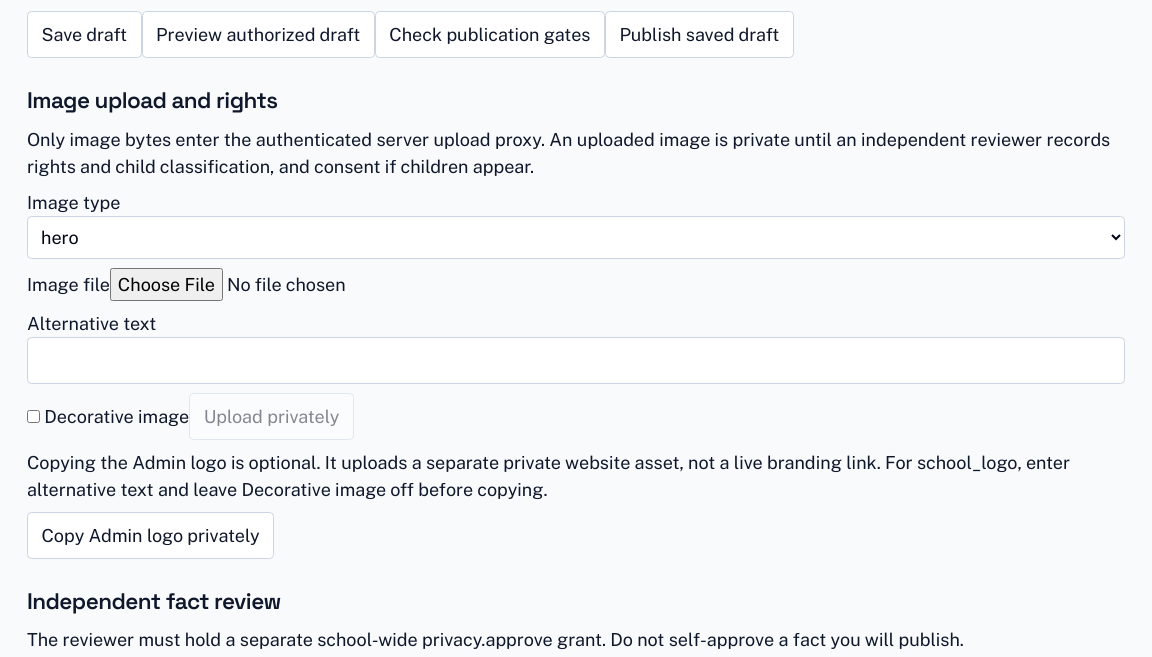
copies only an explicitly requested same-school logo through the authenticated website byte upload
(page scrolled)
Step 1. Type "School crest" into the field labelled "Alternative text" → (576, 360), box top-left (27, 336), bottom-right (1125, 384)
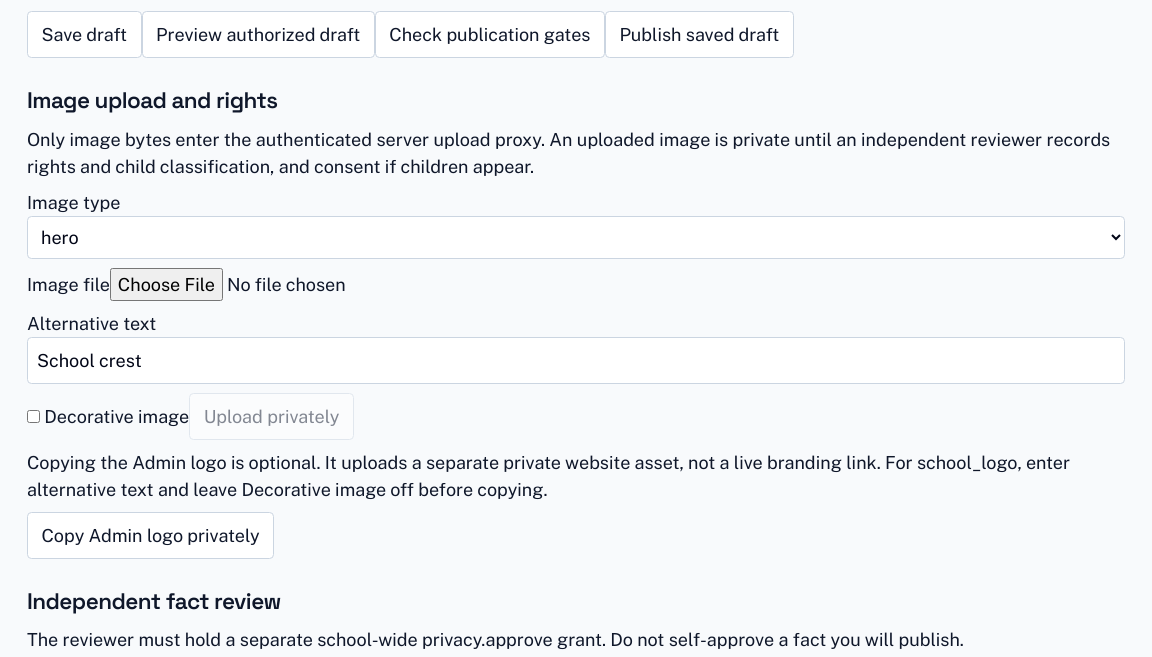
Step 2. Click the button "Copy Admin logo privately" → (151, 535), box top-left (27, 512), bottom-right (274, 558)
(page scrolled)
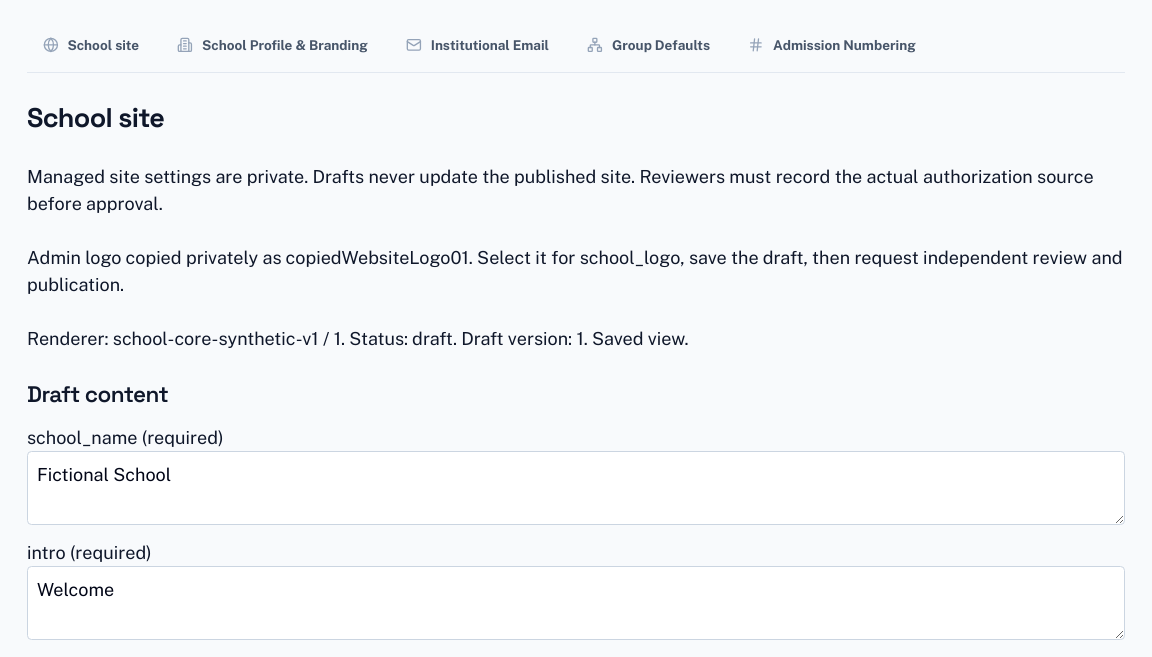
expect the message shows "Admin logo copied privately as copiedWebsiteLogo01": met, box top-left (27, 247), bottom-right (1122, 295)
